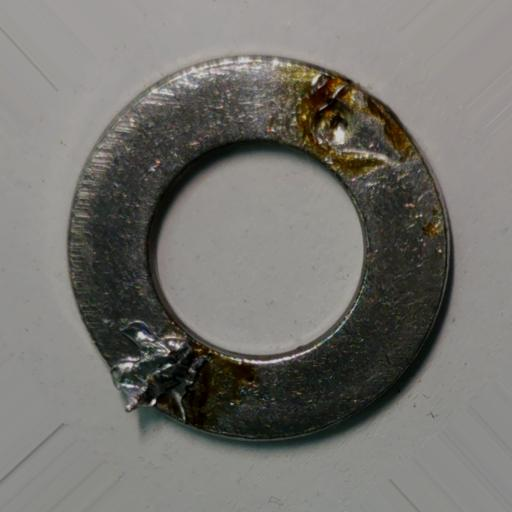excess_material: (111, 318, 215, 423), (295, 71, 404, 163)
